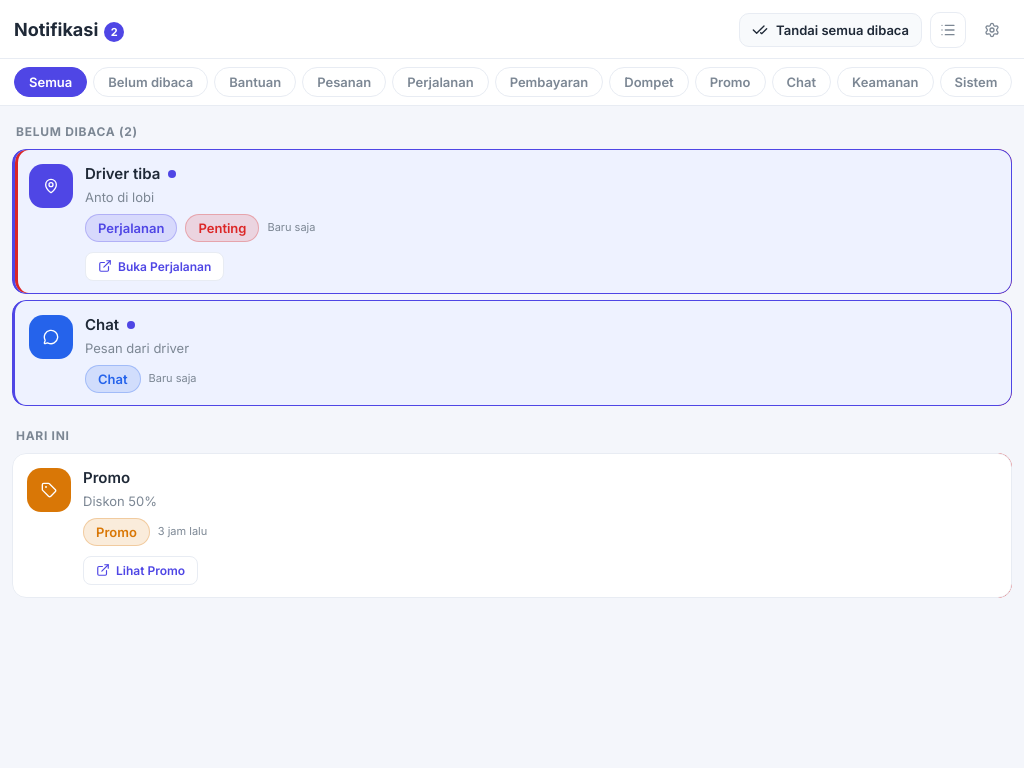
Scenario: NotificationInbox — 6D bulk operations › selects individual items and bulk deletes
Check: the text "Driver tiba" is shown, box [85, 164, 160, 184]
Click the button named "Mode pilih". click: (948, 30)
box: [930, 12, 966, 48]
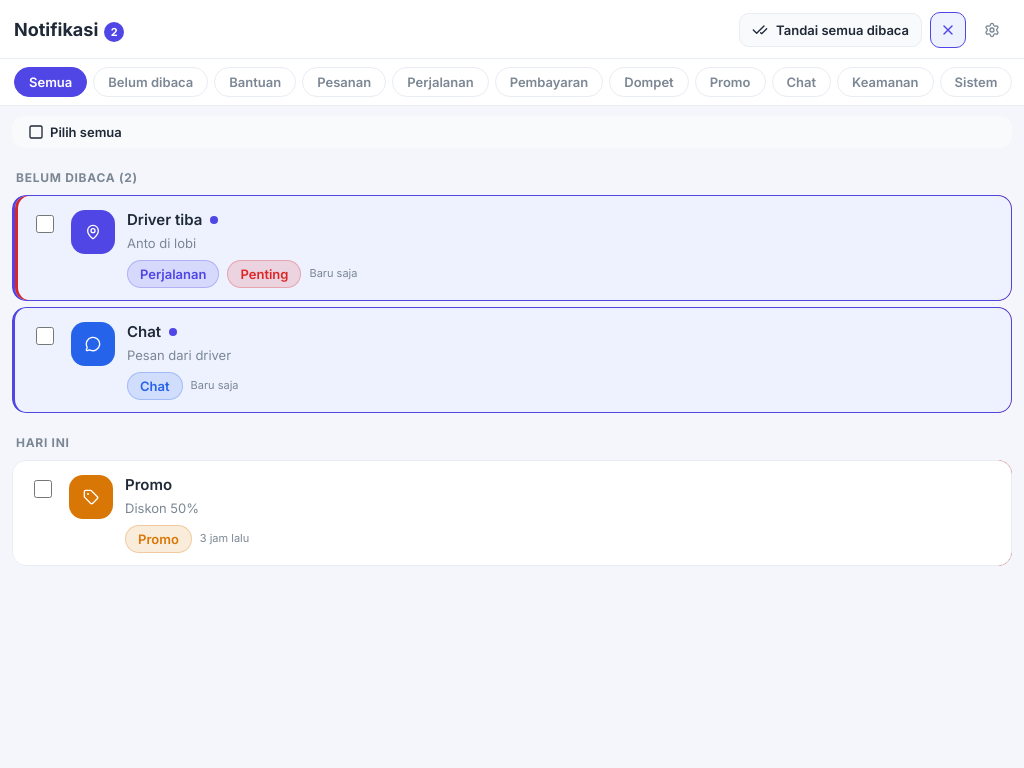
Note: Click on the row that contains "Diskon 50%" (unique message) to select it
Click the text "Diskon 50%". click: (162, 508)
box: [125, 500, 199, 516]
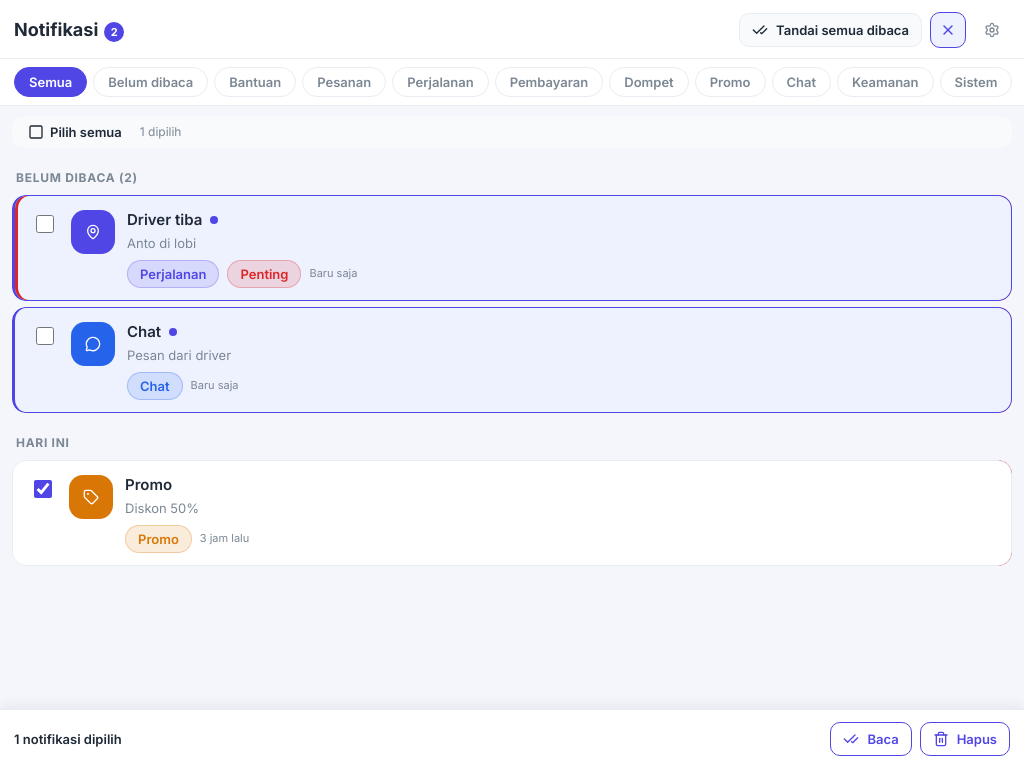
Check: the text "1 dipilih" is shown, box [140, 122, 182, 142]
Note: Bulk delete
Click the button "Hapus". click: (965, 739)
box: [920, 722, 1010, 756]
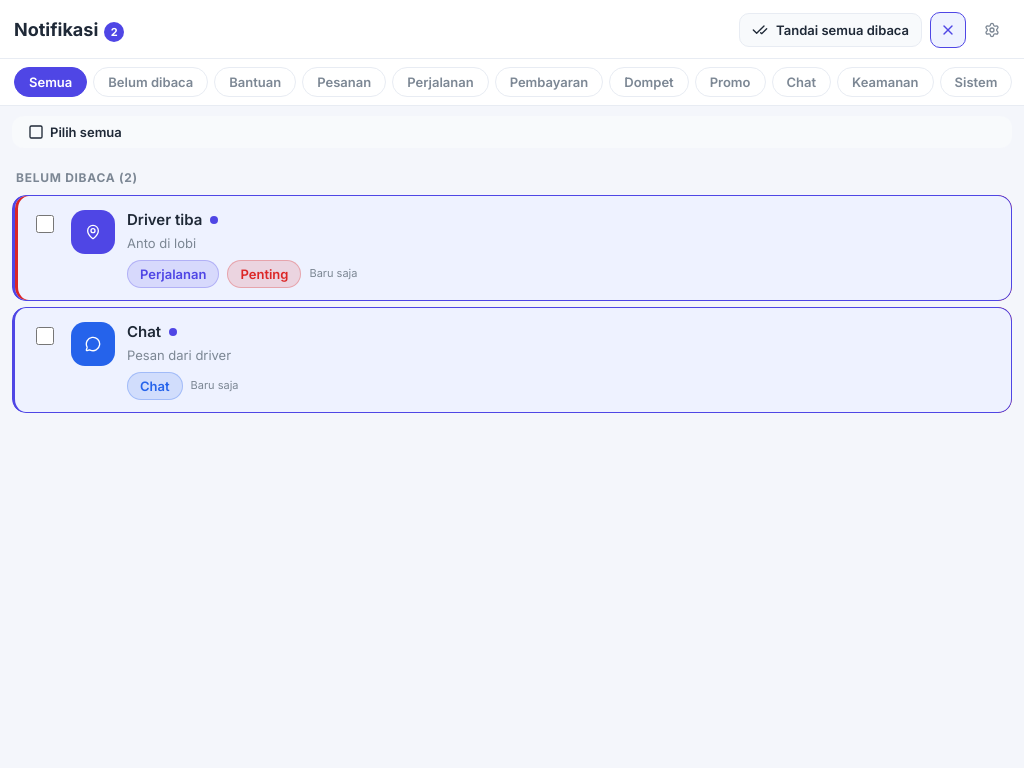
Check: the text "Diskon 50%" is gone
